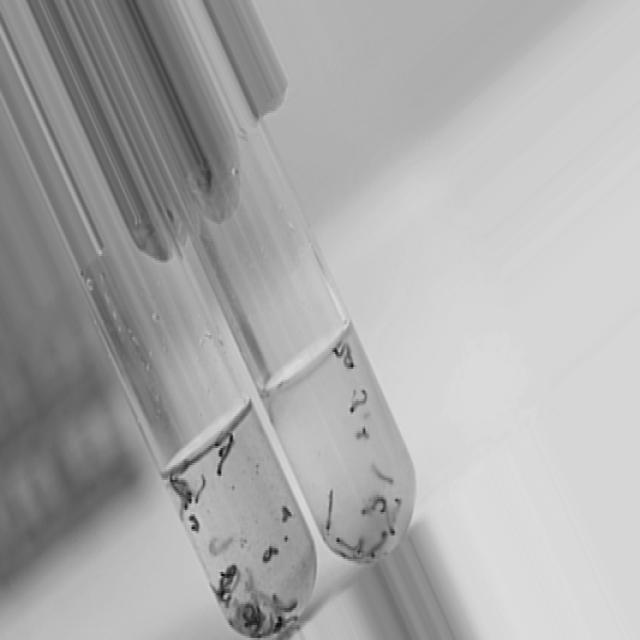larvas: (214, 432, 236, 476), (170, 476, 195, 508), (174, 470, 194, 498), (372, 462, 393, 486), (362, 496, 386, 517), (368, 530, 386, 555), (350, 390, 367, 413), (210, 540, 233, 555), (245, 619, 260, 639), (336, 537, 354, 551), (196, 476, 205, 503), (386, 514, 396, 538), (326, 490, 332, 530), (217, 438, 230, 456), (242, 602, 254, 620), (263, 547, 278, 561), (249, 588, 270, 598), (392, 498, 400, 524), (220, 566, 236, 579), (178, 498, 188, 517), (334, 347, 351, 358), (278, 602, 300, 610), (190, 513, 199, 532), (357, 427, 369, 441), (218, 593, 232, 605), (229, 616, 241, 630), (267, 613, 273, 636), (345, 356, 354, 371), (214, 586, 232, 593), (245, 569, 252, 587), (282, 507, 290, 522), (278, 618, 295, 625), (357, 540, 363, 554)
